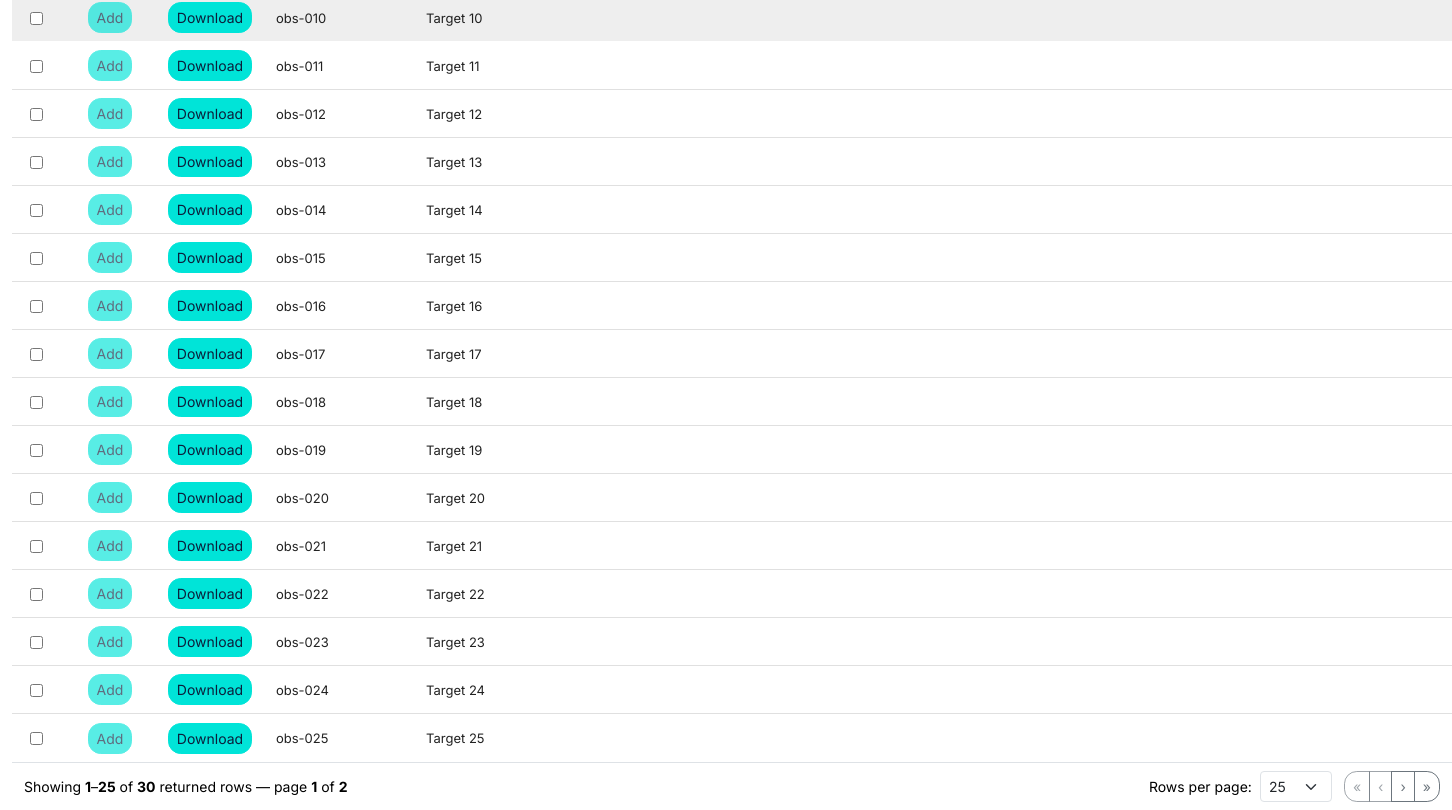
Scenario: ResultsTable pagination and selection › deselecting a current-page row preserves selections on other pages
(page scrolled)
What coordinates should you click on to do the following:
click the button named "next page"
I would click on:
 (1403, 786)
Its box is [1392,771,1415,802].
(page scrolled)
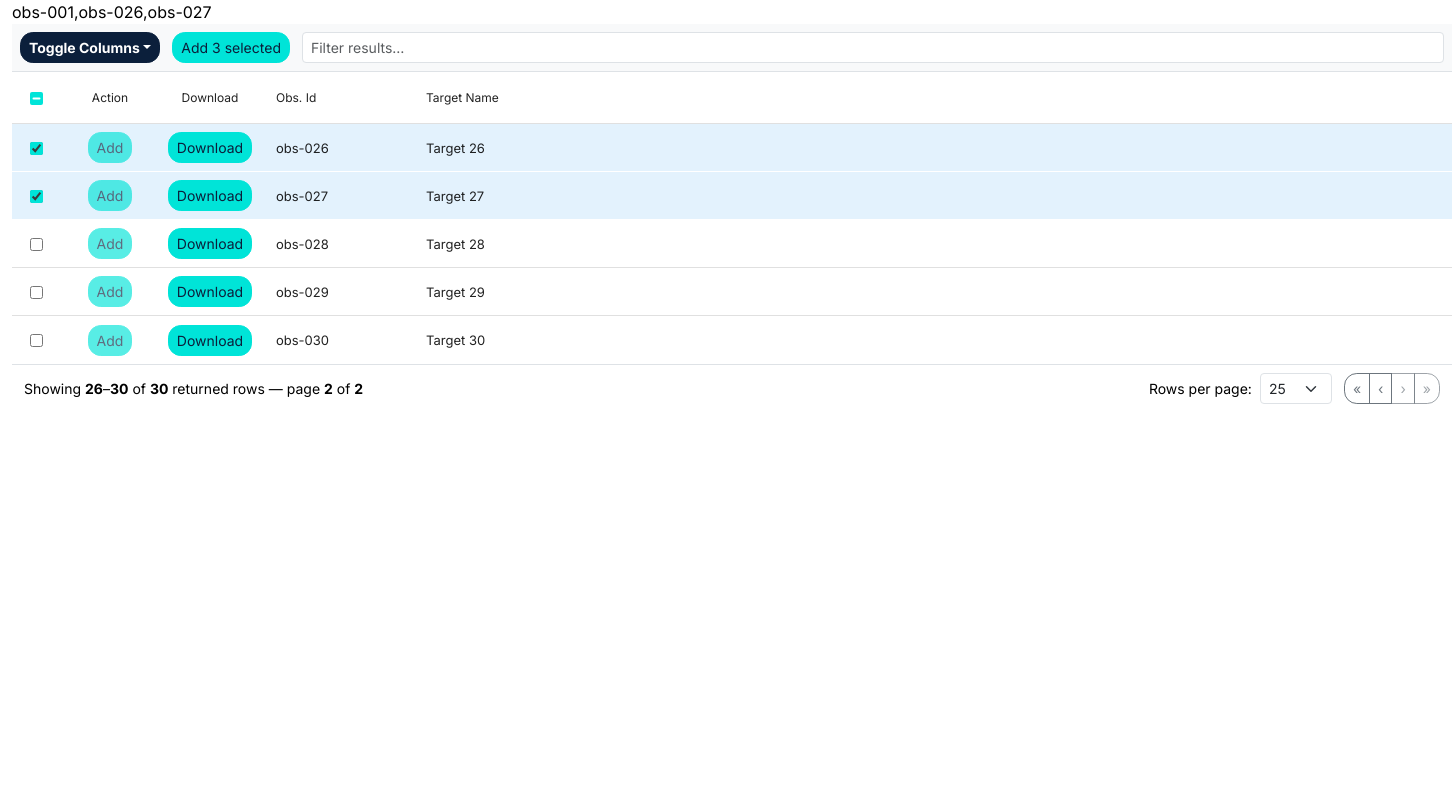
Expected: the checkbox named "select-row-obs-026-25" is checked
Expected: the checkbox named "select-row-obs-027-26" is checked, [30,190,42,202]
What coordinates should you click on to do the following:
click the checkbox named "select-row-obs-026-25"
I would click on:
 (36, 148)
Its box is [30,142,42,154].
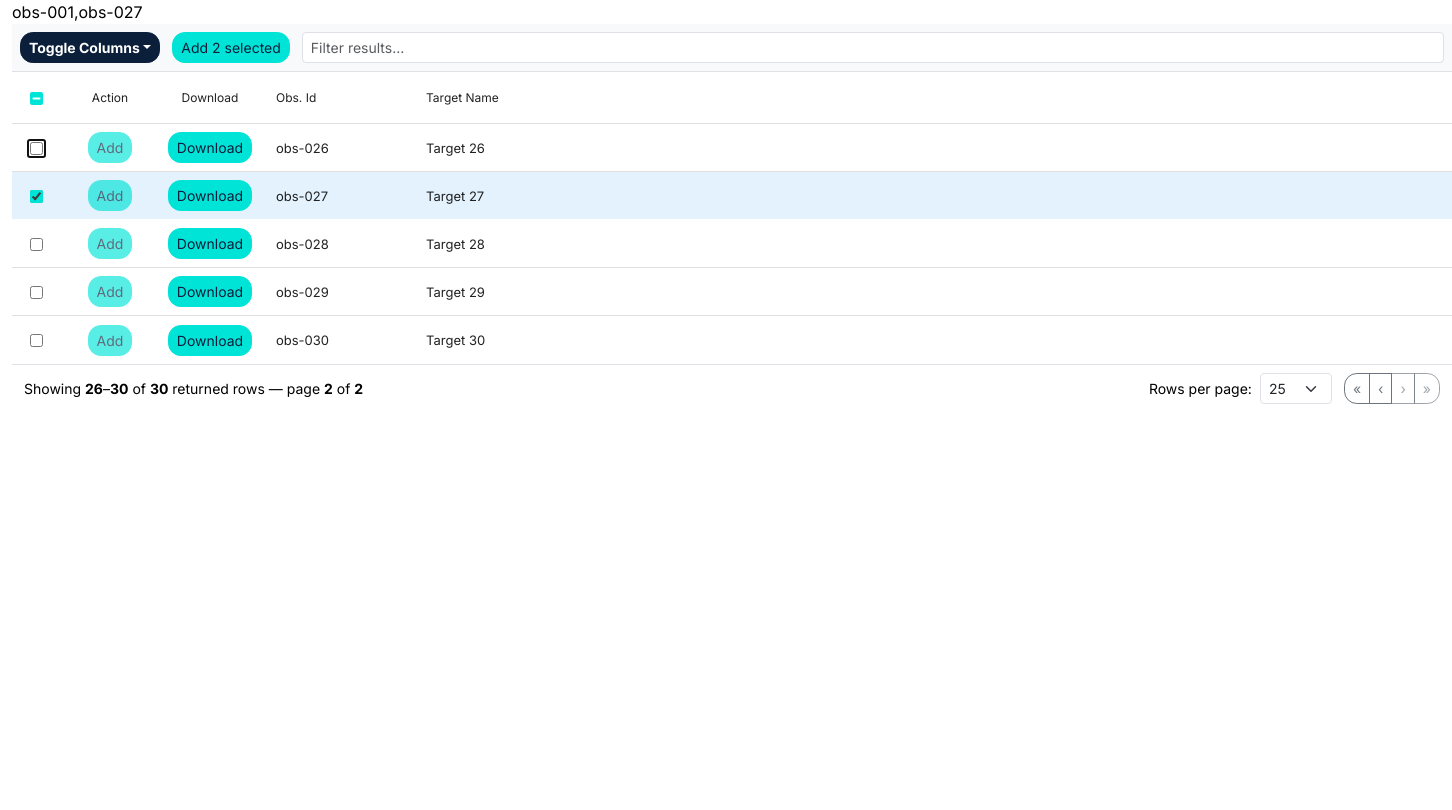
Expected: the text with test id "selected-ids" does not show "obs-026", [12,0,143,24]
Expected: the checkbox named "select-row-obs-027-26" is checked, [30,190,42,202]
Expected: the text with test id "selected-ids" reads "obs-001,obs-027", [12,2,143,22]
